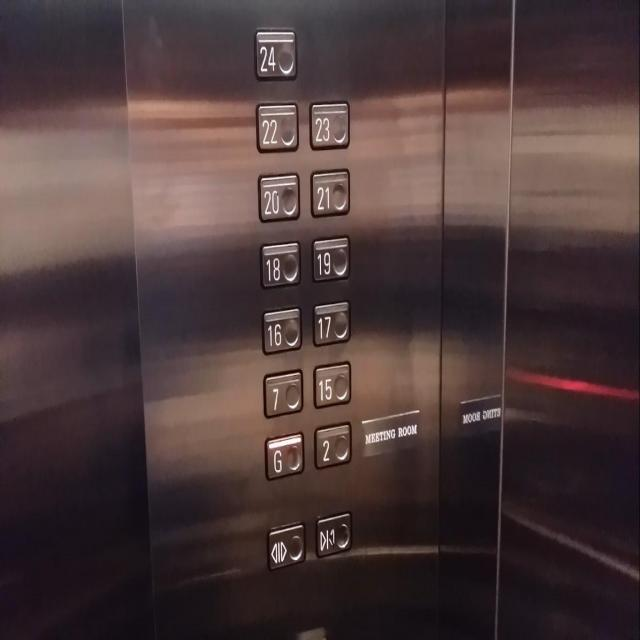15: (313, 358, 352, 408)
16: (261, 306, 302, 356)
17: (312, 300, 350, 347)
18: (260, 242, 300, 288)
19: (310, 235, 350, 283)
2: (312, 421, 352, 469)
20: (257, 170, 300, 222)
21: (310, 165, 351, 217)
22: (255, 99, 299, 153)
23: (307, 97, 350, 151)
24: (253, 27, 297, 81)
7: (262, 366, 304, 419)
G: (264, 430, 305, 481)
close: (314, 508, 353, 556)
open: (266, 518, 306, 572)
